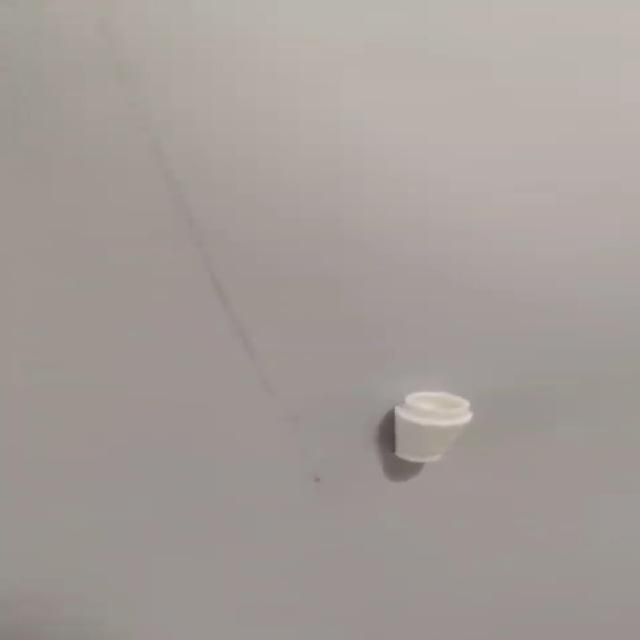Z1x1x1: (388, 388, 476, 465)
